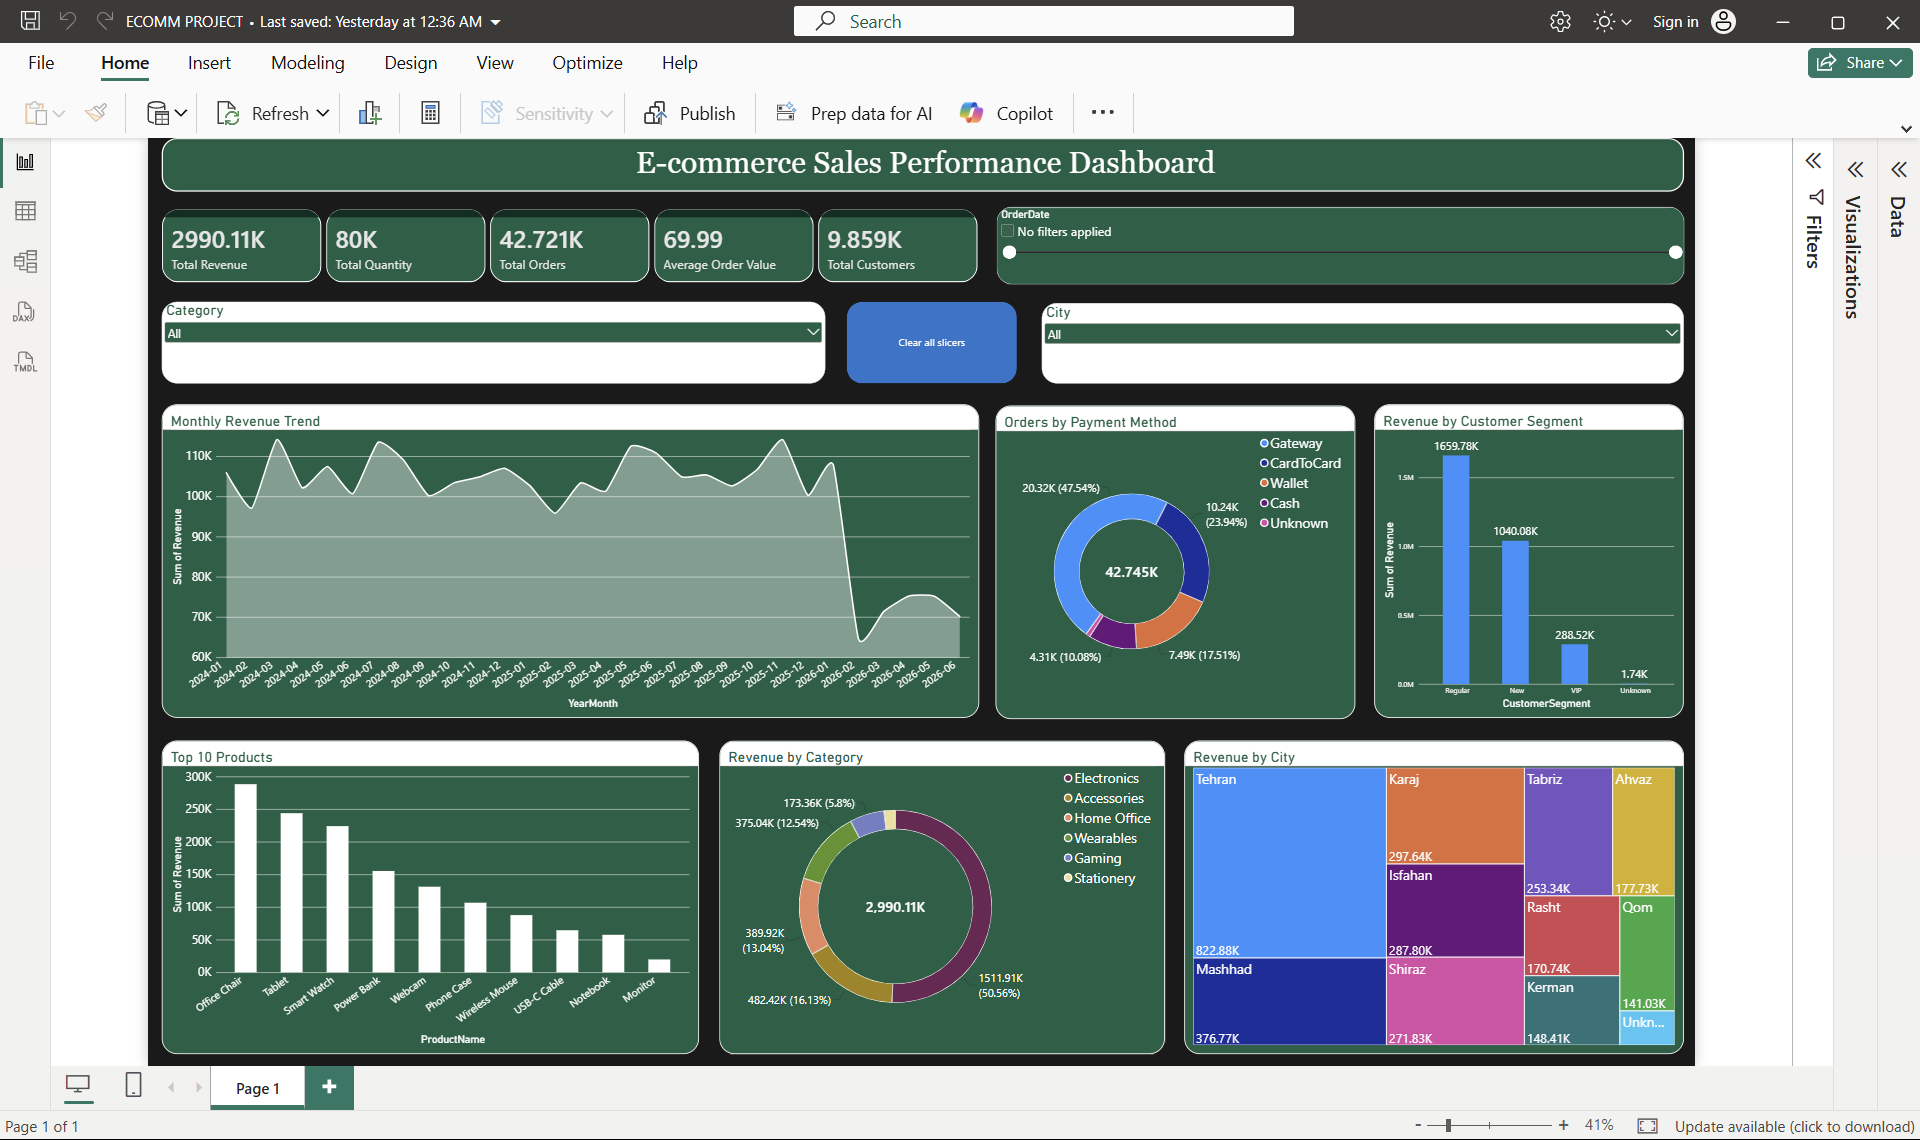

The page's visual inventory and layout, read from the dashboard file:
{"tool":"powerbi","page":{"name":"Page 1","canvas":[3000,1800],"ordinal":0},"visuals":[{"type":"cardVisual","fields":{"Data":["Sum(final_data.Revenue)","Sum(final_data.Quantity)","Count(final_data.OrderID)","final_data.AOV","Count(final_data.CustomerID)"]},"box":[26,137.7,1584.9,142.9],"z":0},{"type":"textbox","box":[0,351.5,1610,150],"z":1000},{"type":"textbox","box":[26,0,2951.5,103.9],"z":2000},{"type":"lineChart","title":"Monthly Revenue Trend","fields":{"Category":["final_data.YearMonth"],"Y":["Sum(final_data.Revenue)"]},"box":[26,517,1584.9,608],"z":3000},{"type":"clusteredColumnChart","title":"Top 10 Products","fields":{"Category":["final_data.ProductName"],"Y":["Sum(final_data.Revenue)"]},"box":[26,1169.2,1041.9,608],"z":4000},{"type":"donutChart","title":"Revenue by Category","fields":{"Category":["final_data.Category"],"Y":["Sum(final_data.Revenue)"]},"box":[1106.5,1169.2,863.9,607.7],"z":5000},{"type":"actionButton","box":[1353.6,317,330,158.5],"z":6000},{"type":"treemap","title":"Revenue by City","fields":{"Group":["final_data0.City"],"Values":["Sum(final_data.Revenue)"]},"box":[2008.4,1169.2,969.1,608],"z":7000},{"type":"donutChart","title":"Orders by Payment Method","fields":{"Category":["final_data0.PaymentMethod"],"Y":["CountNonNull(final_data0.OrderID)"]},"box":[1643.4,517.8,697.7,607.7],"z":8000},{"type":"clusteredColumnChart","title":"Revenue by Customer Segment","fields":{"Category":["final_data0.CustomerSegment"],"Y":["Sum(final_data.Revenue)"]},"box":[2377.3,517,600.2,608],"z":9000},{"type":"slicer","fields":{"Values":["final_data0.OrderDate"]},"box":[1644.6,132.5,1332.9,150.7],"z":10000},{"type":"slicer","fields":{"Values":["final_data0.Category"]},"box":[26,317,1286.1,158.5],"z":11000},{"type":"slicer","fields":{"Values":["final_data0.City"]},"box":[1733,319.6,1244.5,155.9],"z":12000}]}

Visuals, with their boxes on the page's 3000x1800 design canvas (x1, y1, x2, y2). These are canvas units, not pixel positions in the 1920x1140 screenshot, which may show the page scaled, cropped or inside an application window:
cardVisual - Sum(final_data.Revenue) x Sum(final_data.Quantity): bbox=(26, 138, 1611, 281)
textbox: bbox=(0, 352, 1610, 502)
textbox: bbox=(26, 0, 2978, 104)
"Monthly Revenue Trend" lineChart: bbox=(26, 517, 1611, 1125)
"Top 10 Products" clusteredColumnChart: bbox=(26, 1169, 1068, 1777)
"Revenue by Category" donutChart: bbox=(1106, 1169, 1970, 1777)
actionButton: bbox=(1354, 317, 1684, 476)
"Revenue by City" treemap: bbox=(2008, 1169, 2978, 1777)
"Orders by Payment Method" donutChart: bbox=(1643, 518, 2341, 1126)
"Revenue by Customer Segment" clusteredColumnChart: bbox=(2377, 517, 2978, 1125)
slicer - final_data0.OrderDate: bbox=(1645, 132, 2978, 283)
slicer - final_data0.Category: bbox=(26, 317, 1312, 476)
slicer - final_data0.City: bbox=(1733, 320, 2978, 476)
